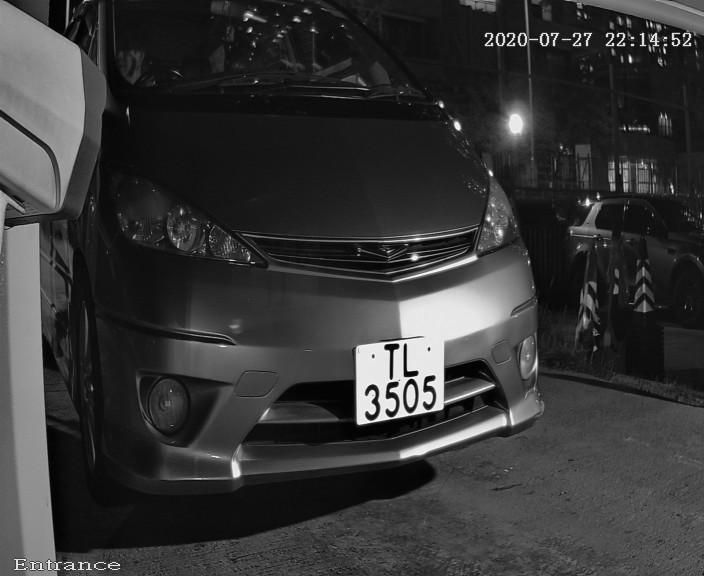privatecar: (53, 3, 567, 504)
